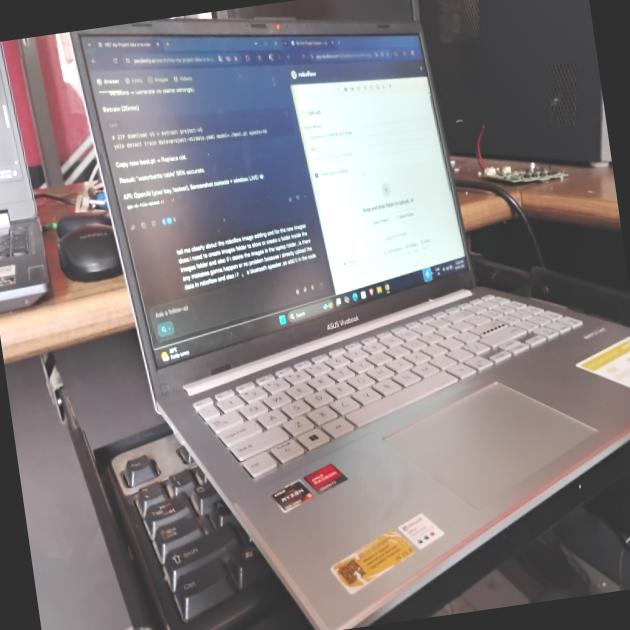laptop: (61, 0, 630, 630)
